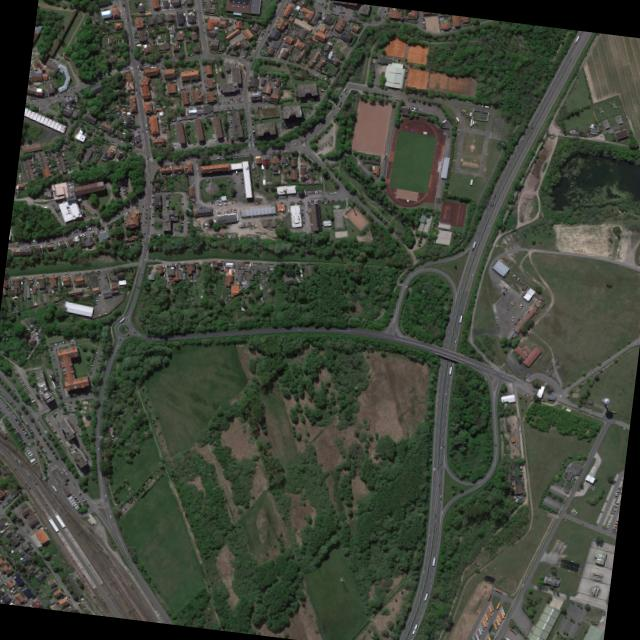large-vehicle: (411, 622, 416, 633), (470, 240, 475, 249), (573, 34, 578, 42), (423, 590, 427, 599), (431, 555, 434, 564), (118, 316, 123, 321), (458, 313, 461, 321), (448, 365, 451, 373), (438, 494, 441, 499), (157, 118, 159, 123), (176, 86, 178, 90), (471, 119, 473, 123)
small-vehicle: (270, 12, 274, 15), (342, 86, 345, 90), (526, 304, 529, 308), (13, 517, 17, 520), (338, 93, 341, 96), (266, 29, 269, 32), (274, 19, 277, 22), (276, 16, 279, 19), (291, 2, 294, 5), (320, 87, 323, 90), (314, 98, 317, 101), (320, 1, 323, 4), (185, 196, 188, 199), (160, 68, 163, 71), (138, 144, 141, 147), (613, 493, 616, 496), (614, 501, 617, 504), (611, 508, 614, 511), (534, 297, 537, 300), (520, 289, 523, 292), (518, 304, 521, 307), (307, 110, 310, 113), (284, 125, 287, 128), (337, 103, 340, 106), (319, 146, 322, 149), (4, 491, 7, 494), (5, 499, 8, 502), (7, 497, 10, 500), (81, 501, 84, 504), (74, 497, 77, 500), (73, 496, 76, 499), (80, 495, 83, 498), (3, 492, 6, 495), (3, 501, 6, 504), (2, 502, 5, 505), (21, 533, 24, 536), (23, 527, 26, 530), (20, 439, 23, 442), (18, 437, 21, 440), (17, 434, 20, 437), (25, 434, 28, 437), (24, 433, 27, 436), (61, 467, 64, 470), (47, 457, 50, 460), (52, 452, 55, 455), (46, 443, 49, 446), (43, 439, 46, 442), (37, 441, 40, 444), (126, 332, 129, 335), (119, 339, 122, 342), (32, 96, 35, 99), (30, 95, 33, 98), (21, 427, 24, 430), (20, 426, 23, 429), (31, 333, 34, 336), (122, 204, 125, 207), (141, 234, 144, 237), (71, 228, 74, 231), (18, 424, 21, 427), (27, 408, 30, 411), (35, 416, 38, 419), (57, 436, 60, 439), (56, 435, 59, 438), (9, 400, 12, 403), (52, 429, 55, 432), (50, 426, 53, 429), (49, 424, 52, 427), (31, 432, 34, 435), (25, 423, 28, 426), (33, 423, 36, 426), (14, 370, 17, 373), (36, 405, 39, 408), (253, 42, 257, 44), (342, 15, 346, 17), (420, 20, 424, 22), (150, 214, 154, 216), (453, 338, 455, 342), (439, 444, 441, 448), (432, 466, 434, 470), (606, 520, 610, 522), (283, 125, 285, 129), (264, 100, 268, 102), (48, 447, 52, 449), (231, 20, 233, 23), (242, 50, 245, 52), (242, 51, 245, 53), (252, 46, 255, 48), (252, 45, 255, 47), (257, 37, 260, 39), (260, 31, 263, 33), (262, 29, 265, 31), (252, 130, 255, 132), (250, 121, 253, 123), (205, 83, 207, 86), (202, 70, 205, 72), (218, 100, 220, 103), (218, 91, 220, 94), (378, 6, 380, 9), (310, 71, 312, 74), (352, 18, 355, 20), (329, 30, 331, 33), (316, 21, 318, 24), (316, 27, 319, 29), (280, 39, 283, 41), (314, 72, 316, 75), (315, 72, 317, 75), (323, 76, 325, 79), (319, 89, 322, 91), (317, 92, 320, 94), (332, 105, 334, 108), (383, 9, 385, 12), (421, 21, 424, 23), (311, 6, 314, 8), (312, 3, 315, 5), (332, 4, 335, 6), (338, 5, 341, 7), (337, 9, 340, 11), (332, 12, 335, 14), (180, 206, 183, 208), (180, 205, 183, 207), (150, 201, 153, 203), (150, 195, 153, 197), (179, 194, 182, 196), (179, 192, 182, 194), (195, 166, 197, 169), (107, 138, 110, 140), (150, 221, 153, 223), (179, 223, 182, 225), (186, 226, 189, 228), (186, 222, 189, 224), (186, 219, 189, 221), (186, 218, 189, 220), (110, 139, 113, 141), (187, 80, 190, 82), (193, 141, 195, 144), (145, 129, 147, 132), (144, 122, 146, 125), (192, 141, 194, 144), (197, 112, 199, 115), (201, 112, 203, 115), (160, 66, 163, 68), (172, 77, 175, 79), (131, 145, 134, 147), (138, 143, 141, 145), (137, 140, 140, 142), (136, 132, 139, 134), (136, 131, 139, 133), (137, 90, 139, 93), (173, 55, 176, 57), (334, 101, 336, 104), (343, 93, 345, 96), (257, 260, 260, 262), (297, 328, 300, 330), (406, 97, 408, 100), (408, 98, 410, 101), (410, 98, 412, 101), (614, 491, 617, 493), (615, 500, 618, 502), (613, 504, 616, 506), (326, 199, 328, 202), (330, 198, 332, 201), (331, 198, 333, 201), (612, 506, 615, 508), (610, 511, 613, 513), (443, 391, 445, 394), (470, 272, 472, 275), (427, 533, 429, 536), (421, 569, 423, 572), (605, 523, 608, 525), (580, 522, 583, 524), (522, 391, 524, 394), (524, 392, 526, 395), (537, 299, 540, 301), (510, 315, 513, 317), (510, 317, 512, 320), (529, 125, 531, 128), (521, 137, 523, 140), (492, 194, 494, 197), (489, 202, 491, 205), (312, 103, 315, 105), (303, 113, 305, 116), (228, 120, 231, 122), (217, 136, 219, 139), (221, 136, 223, 139), (213, 137, 215, 140), (213, 143, 216, 145), (228, 141, 231, 143), (243, 147, 246, 149), (286, 124, 289, 126), (336, 106, 338, 109), (273, 85, 276, 87), (250, 100, 252, 103), (257, 99, 259, 102), (280, 127, 282, 130), (252, 106, 254, 109), (256, 105, 258, 108), (257, 105, 259, 108), (264, 104, 266, 107), (268, 104, 270, 107), (274, 103, 276, 106), (279, 121, 281, 124), (298, 199, 301, 201), (305, 209, 307, 212), (316, 189, 318, 192), (313, 189, 315, 192), (290, 192, 292, 195), (309, 189, 311, 192), (304, 193, 307, 195), (306, 199, 308, 202), (311, 198, 313, 201), (292, 226, 295, 228), (247, 152, 250, 154), (312, 133, 315, 135), (303, 137, 305, 140), (271, 150, 274, 152), (295, 226, 298, 228), (283, 197, 286, 199), (286, 207, 288, 210), (284, 206, 286, 209), (281, 194, 283, 197), (146, 233, 148, 236), (76, 501, 79, 503), (82, 499, 85, 501), (80, 502, 82, 505), (75, 500, 78, 502), (75, 498, 77, 501), (81, 498, 84, 500), (81, 496, 83, 499), (72, 495, 75, 497), (79, 494, 82, 496), (77, 491, 80, 493), (76, 490, 79, 492), (75, 607, 77, 610), (68, 602, 71, 604), (67, 594, 69, 597), (63, 588, 65, 591), (28, 540, 30, 543), (38, 540, 40, 543), (23, 517, 25, 520), (85, 456, 87, 459), (84, 455, 87, 457), (27, 442, 29, 445), (26, 443, 28, 446), (22, 442, 25, 444), (21, 441, 24, 443), (20, 438, 22, 441), (18, 436, 21, 438), (15, 431, 18, 433), (13, 428, 16, 430), (12, 427, 15, 429), (26, 435, 28, 438), (23, 432, 26, 434), (23, 431, 26, 433), (28, 441, 30, 444), (35, 439, 38, 441), (64, 471, 66, 474), (45, 442, 48, 444), (45, 441, 48, 443), (36, 441, 39, 443), (43, 438, 45, 441), (42, 437, 45, 439), (42, 449, 45, 451), (41, 448, 44, 450), (125, 311, 127, 314), (202, 29, 204, 32), (115, 346, 117, 349), (146, 4, 148, 7), (161, 5, 163, 8), (170, 2, 172, 5), (378, 158, 381, 160), (164, 278, 166, 281), (46, 193, 48, 196), (71, 85, 74, 87), (62, 94, 65, 96), (53, 98, 56, 100), (83, 131, 85, 134), (48, 152, 50, 155), (31, 156, 33, 159), (34, 156, 36, 159), (35, 155, 37, 158), (43, 187, 45, 190), (44, 187, 46, 190), (47, 187, 49, 190), (51, 113, 54, 115), (36, 105, 38, 108), (126, 31, 128, 34), (104, 5, 106, 8), (102, 75, 105, 77), (21, 429, 24, 431), (23, 281, 25, 284), (21, 275, 24, 277), (81, 273, 83, 276), (11, 247, 13, 250), (15, 244, 18, 246), (16, 240, 18, 243), (18, 240, 20, 243), (22, 239, 24, 242), (65, 339, 67, 342), (69, 338, 71, 341), (36, 342, 39, 344), (36, 334, 38, 337), (94, 298, 97, 300), (86, 286, 89, 288), (103, 275, 106, 277), (96, 277, 99, 279), (90, 269, 93, 271), (31, 238, 33, 241), (122, 192, 125, 194), (121, 205, 123, 208), (121, 213, 123, 216), (124, 211, 126, 214), (124, 207, 127, 209), (148, 203, 150, 206), (122, 189, 125, 191), (136, 202, 139, 204), (134, 205, 137, 207), (137, 210, 140, 212), (137, 213, 140, 215), (144, 246, 146, 249), (142, 231, 145, 233), (79, 229, 82, 231), (51, 213, 54, 215), (70, 229, 72, 232), (73, 228, 75, 231), (75, 227, 77, 230), (77, 227, 79, 230), (121, 186, 124, 188), (83, 231, 85, 234), (103, 183, 106, 185), (117, 190, 120, 192), (123, 177, 126, 179), (121, 184, 124, 186), (62, 339, 64, 342), (60, 340, 62, 343), (59, 429, 62, 431), (43, 429, 45, 432), (58, 441, 61, 443), (77, 433, 79, 436), (53, 431, 56, 433), (46, 419, 49, 421), (42, 414, 45, 416), (72, 409, 75, 411), (28, 428, 31, 430), (17, 423, 20, 425), (16, 421, 19, 423), (16, 420, 19, 422), (14, 418, 17, 420), (13, 417, 16, 419), (30, 431, 33, 433), (29, 430, 32, 432), (28, 429, 31, 431), (27, 427, 30, 429), (24, 421, 27, 423), (35, 427, 38, 429), (26, 413, 29, 415), (20, 414, 22, 417), (16, 409, 19, 411), (66, 411, 68, 414), (16, 373, 19, 375), (54, 372, 57, 374), (54, 367, 57, 369), (53, 366, 56, 368), (52, 359, 55, 361), (22, 384, 25, 386), (94, 350, 97, 352), (49, 348, 52, 350), (54, 347, 56, 350), (54, 341, 56, 344), (22, 385, 25, 387), (67, 407, 70, 409), (73, 401, 76, 403), (67, 404, 70, 406), (61, 404, 64, 406), (68, 392, 70, 395), (67, 392, 69, 395), (12, 388, 14, 391), (34, 403, 37, 405), (33, 402, 36, 404), (57, 390, 60, 392), (56, 385, 59, 387), (55, 381, 58, 383), (241, 54, 243, 56), (260, 32, 262, 34), (216, 92, 218, 94), (237, 96, 239, 98), (225, 106, 227, 108), (377, 10, 379, 12), (361, 23, 363, 25), (309, 71, 311, 73), (349, 17, 351, 19), (341, 14, 343, 16), (382, 12, 384, 14), (316, 0, 318, 2), (335, 13, 337, 15), (197, 82, 199, 84), (198, 84, 200, 86), (198, 82, 200, 84), (180, 200, 182, 202), (194, 159, 196, 161), (149, 178, 150, 182), (180, 226, 182, 228), (140, 129, 142, 131), (136, 129, 138, 131), (133, 126, 135, 128), (140, 70, 142, 72), (134, 91, 136, 93), (134, 87, 136, 89), (339, 101, 341, 103), (616, 487, 618, 489), (613, 495, 615, 497), (323, 197, 325, 199), (342, 197, 344, 199), (300, 208, 302, 210), (300, 209, 302, 211), (434, 525, 436, 527), (487, 224, 489, 226), (525, 393, 527, 395), (491, 203, 493, 205), (229, 124, 231, 126), (206, 144, 208, 146), (332, 114, 334, 116), (296, 199, 298, 201), (306, 190, 308, 192), (79, 493, 81, 495), (78, 492, 80, 494), (71, 493, 73, 495), (17, 433, 19, 435), (16, 432, 18, 434), (29, 441, 31, 443), (48, 446, 50, 448), (44, 451, 46, 453), (43, 451, 45, 453), (47, 445, 49, 447), (41, 447, 43, 449), (40, 445, 42, 447), (39, 444, 41, 446), (77, 610, 79, 612), (108, 514, 110, 516), (180, 260, 182, 262), (174, 266, 176, 268), (49, 152, 51, 154), (68, 87, 70, 89), (61, 90, 63, 92), (46, 153, 48, 155), (102, 6, 104, 8), (127, 39, 128, 43), (33, 48, 35, 50), (29, 65, 31, 67), (11, 242, 13, 244), (19, 240, 21, 242), (84, 270, 86, 272), (71, 338, 73, 340), (38, 335, 40, 337), (37, 338, 39, 340), (120, 290, 122, 292), (78, 287, 80, 289), (85, 285, 89, 286), (40, 237, 42, 239), (61, 340, 63, 342), (69, 230, 71, 232), (78, 227, 80, 229), (82, 232, 84, 234), (124, 186, 128, 187), (96, 434, 97, 438), (56, 435, 58, 437), (54, 412, 56, 414), (63, 411, 65, 413), (5, 405, 7, 407), (27, 426, 29, 428), (25, 422, 27, 424), (73, 406, 75, 408), (51, 357, 53, 359), (15, 372, 17, 374), (50, 353, 52, 355), (50, 352, 52, 354), (70, 342, 72, 344), (20, 380, 22, 382), (62, 402, 64, 404), (35, 404, 37, 406), (55, 380, 57, 382), (30, 397, 32, 399), (29, 396, 31, 398), (252, 132, 255, 133), (252, 133, 255, 134), (234, 20, 235, 23), (250, 123, 253, 124), (234, 99, 235, 102), (204, 87, 207, 88), (204, 83, 205, 86), (230, 96, 231, 99), (234, 96, 235, 99), (230, 105, 231, 108), (238, 98, 239, 101), (239, 98, 240, 101), (221, 106, 222, 109), (360, 20, 363, 21), (315, 28, 316, 31), (420, 18, 423, 19), (421, 23, 424, 24), (338, 4, 341, 5), (338, 8, 341, 9), (349, 5, 352, 6), (351, 11, 354, 12), (329, 12, 332, 13), (164, 195, 167, 196), (180, 202, 183, 203), (164, 197, 167, 198), (164, 192, 167, 193), (187, 182, 190, 183), (185, 207, 188, 208), (185, 216, 188, 217), (179, 225, 182, 226), (157, 232, 158, 235), (173, 232, 174, 235), (186, 229, 189, 230), (186, 225, 189, 226), (145, 126, 146, 129), (186, 147, 189, 148), (196, 112, 197, 115), (151, 107, 152, 110), (199, 112, 200, 115), (200, 112, 201, 115), (135, 142, 136, 145), (133, 131, 134, 134), (135, 126, 138, 127), (135, 94, 136, 97), (130, 48, 131, 51), (159, 57, 162, 58), (138, 68, 139, 71), (242, 260, 245, 261), (245, 260, 248, 261), (263, 261, 266, 262), (412, 98, 413, 101), (413, 99, 414, 102), (420, 107, 421, 110), (615, 490, 618, 491), (306, 230, 307, 233), (301, 221, 304, 222), (336, 198, 337, 201), (328, 198, 329, 201), (329, 198, 330, 201), (326, 192, 329, 193), (329, 191, 332, 192), (338, 197, 339, 200), (300, 215, 303, 216), (332, 191, 335, 192), (306, 204, 307, 207), (307, 211, 308, 214), (439, 461, 440, 464), (436, 398, 437, 401), (442, 443, 443, 446), (438, 482, 439, 485), (494, 322, 497, 323), (318, 198, 319, 201), (228, 118, 231, 119), (228, 119, 231, 120), (229, 129, 232, 130), (204, 139, 205, 142), (273, 84, 276, 85), (248, 106, 251, 107), (259, 105, 260, 108), (275, 122, 278, 123), (231, 154, 234, 155), (312, 189, 313, 192), (293, 192, 294, 195), (289, 200, 292, 201), (315, 189, 316, 192), (315, 199, 316, 202), (292, 192, 293, 195), (289, 192, 290, 195), (244, 153, 247, 154), (277, 150, 280, 151), (277, 193, 278, 196), (278, 194, 279, 197), (280, 194, 281, 197), (274, 198, 277, 199), (279, 201, 282, 202), (148, 215, 149, 218), (145, 212, 146, 215), (156, 232, 157, 235), (27, 202, 28, 205), (48, 193, 49, 196), (198, 9, 199, 12), (135, 284, 136, 287), (137, 285, 138, 288), (201, 19, 202, 22), (197, 17, 198, 20), (177, 7, 180, 8), (176, 261, 179, 262), (174, 263, 175, 266), (164, 264, 165, 267), (155, 267, 158, 268), (14, 191, 15, 194), (51, 151, 52, 154), (33, 156, 34, 159), (46, 187, 47, 190), (45, 193, 46, 196), (113, 3, 114, 6), (123, 7, 124, 10), (126, 17, 127, 20), (124, 18, 125, 21), (121, 38, 122, 41), (117, 39, 118, 42), (99, 76, 102, 77), (28, 70, 31, 71), (28, 72, 31, 73), (10, 285, 11, 288), (64, 272, 67, 273), (27, 275, 30, 276), (15, 276, 18, 277), (36, 237, 37, 240), (33, 238, 34, 241), (64, 339, 65, 342), (127, 209, 128, 212), (128, 208, 129, 211), (151, 257, 154, 258), (122, 191, 125, 192), (46, 236, 47, 239), (46, 206, 49, 207), (114, 194, 117, 195), (117, 193, 120, 194), (123, 179, 126, 180), (97, 446, 98, 449), (56, 341, 57, 344), (54, 371, 57, 372), (50, 356, 53, 357), (89, 363, 92, 364), (62, 401, 65, 402), (55, 383, 58, 384), (253, 137, 255, 138), (259, 34, 261, 35), (228, 97, 229, 99), (236, 96, 237, 98), (239, 96, 240, 98), (219, 107, 220, 109), (227, 106, 228, 108), (321, 75, 322, 77), (421, 24, 423, 25), (341, 11, 343, 12), (151, 203, 153, 204), (186, 215, 188, 216), (187, 176, 189, 177), (179, 144, 181, 145), (148, 157, 149, 159), (159, 233, 160, 235), (160, 233, 161, 235), (150, 223, 152, 224), (151, 212, 153, 213), (180, 220, 182, 221), (180, 221, 182, 222), (180, 222, 182, 223), (186, 230, 188, 231), (146, 156, 147, 158), (142, 137, 143, 139), (156, 116, 157, 118), (173, 143, 175, 144), (183, 87, 184, 89), (152, 105, 153, 107), (138, 142, 140, 143), (135, 132, 136, 134), (418, 107, 419, 109), (617, 486, 619, 487), (301, 218, 303, 219), (335, 198, 336, 200), (300, 211, 302, 212), (300, 212, 302, 213), (300, 214, 302, 215), (494, 443, 495, 445), (511, 406, 513, 407), (323, 196, 325, 197), (320, 197, 322, 198), (224, 136, 225, 138), (230, 135, 232, 136), (203, 145, 205, 146), (225, 142, 227, 143), (235, 154, 237, 155), (260, 100, 261, 102), (261, 100, 262, 102), (238, 153, 240, 154), (317, 199, 318, 201), (318, 189, 319, 191), (311, 190, 312, 192), (308, 190, 309, 192), (310, 199, 311, 201), (314, 199, 315, 201), (241, 153, 243, 154), (274, 150, 276, 151), (283, 149, 285, 150), (284, 204, 285, 206), (77, 603, 79, 604), (69, 490, 71, 491), (140, 271, 141, 273), (196, 9, 197, 11), (163, 12, 164, 14), (175, 7, 177, 8), (169, 5, 170, 7), (160, 0, 161, 2), (104, 493, 105, 495), (171, 262, 173, 263), (147, 269, 149, 270), (38, 106, 39, 108), (125, 21, 126, 23), (73, 279, 74, 281), (41, 274, 43, 275), (38, 274, 40, 275), (34, 277, 35, 279), (13, 248, 14, 250), (21, 240, 22, 242), (77, 271, 79, 272), (67, 339, 68, 341), (87, 270, 89, 271), (96, 269, 98, 270), (143, 257, 144, 259), (141, 204, 142, 206), (155, 233, 156, 235), (122, 188, 124, 189), (74, 412, 75, 414), (65, 411, 66, 413), (18, 377, 20, 378), (53, 342, 54, 344), (73, 405, 75, 406), (75, 392, 76, 394)
